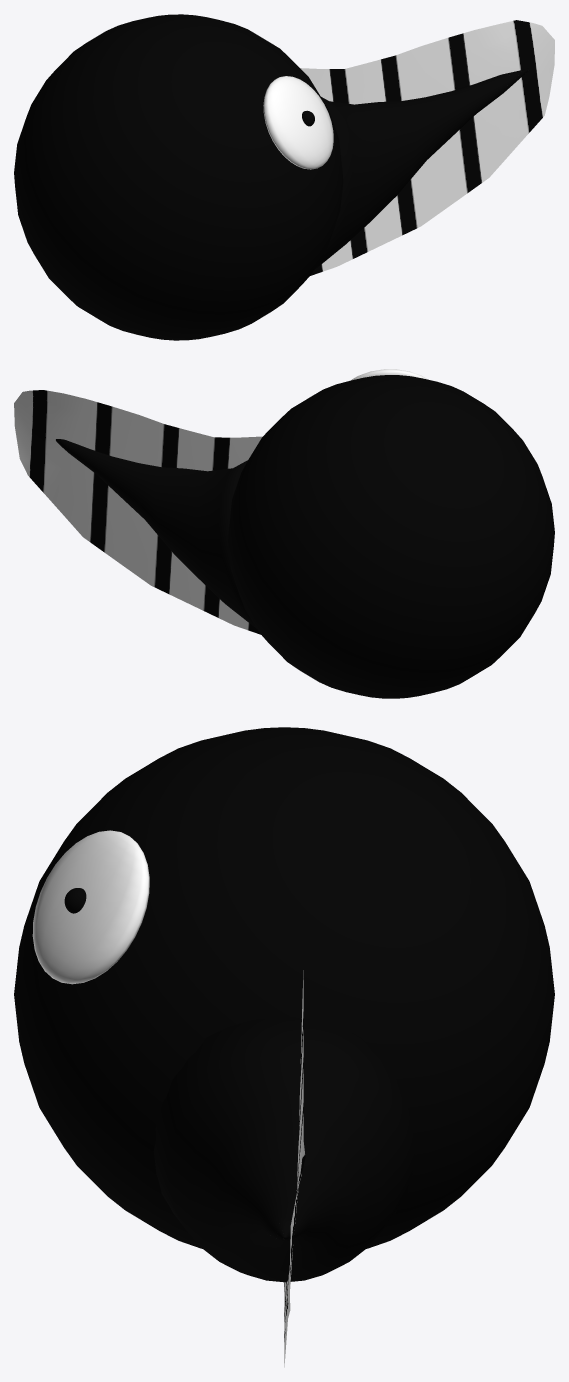
File: nimaru2.gltf
The picture shows the model from 3 angles, top to bottom: view 1: azimuth 30°, elevation 25°; view 2: azimuth 150°, elevation 25°; view 3: azimuth 270°, elevation 25°; orthographic projection. The views are drawn at different scales.
Visible parts, largest first — view 1: Cube; view 2: Cube; view 3: Cube.
Boxes of the visible parts, <box> form: Cube: <box>14,14,554,340</box>; Cube: <box>14,369,554,698</box>; Cube: <box>14,727,554,1367</box>.
Size of the model in its own units: 3.65 by 1.97 by 2.
Materials: 1 (1 with a texture image).
